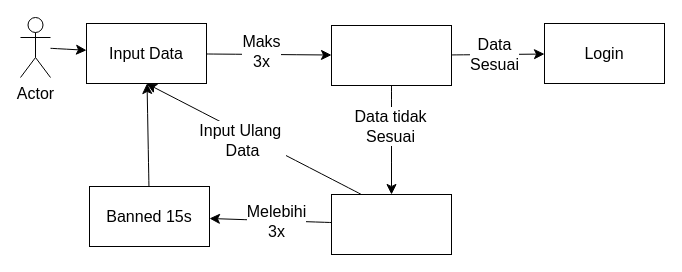
The diagram is 682 pixels wide and 272 high, and some of its shapes have lost their labels. The shapes that lost their labels are listed below. From the top down, each one's centre as x and y in pixels, then its label:
the point at 391,55: Verifikasi Data
the point at 391,224: Data Invalid
